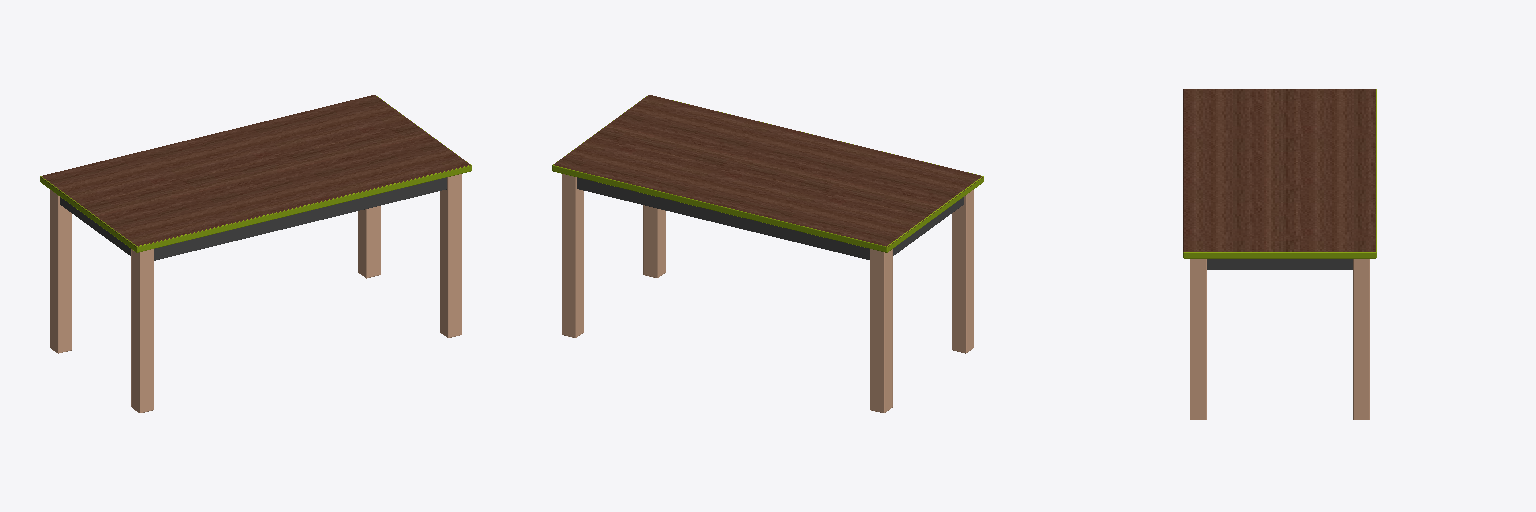
3 renders of one model, left to right at view 1: azimuth 30°, elevation 25°; view 2: azimuth 150°, elevation 25°; view 3: azimuth 270°, elevation 25°, orthographic.
Parts seen in each view (by area): view 1: ChamferBox004, ___________004, ChamferBox007, ___________001, ___________003, ___________002, ChamferBox006; view 2: ChamferBox004, ___________003, ___________002, ChamferBox008, ___________004, ___________001, ChamferBox006; view 3: ChamferBox004, ___________002, ___________001, ChamferBox005.
Part boxes in pixels (left/top/right/bottom): ChamferBox004: left=40, top=95, right=471, bottom=252; ___________004: left=131, top=249, right=153, bottom=412; ChamferBox007: left=154, top=177, right=446, bottom=260; ___________001: left=440, top=174, right=461, bottom=337; ___________003: left=50, top=190, right=71, bottom=353; ___________002: left=358, top=206, right=380, bottom=278; ChamferBox006: left=60, top=197, right=130, bottom=255; ChamferBox004: left=552, top=95, right=983, bottom=252; ___________003: left=870, top=249, right=892, bottom=412; ___________002: left=562, top=174, right=583, bottom=337; ChamferBox008: left=577, top=177, right=869, bottom=259; ___________004: left=952, top=190, right=973, bottom=353; ___________001: left=643, top=205, right=665, bottom=277; ChamferBox006: left=893, top=197, right=963, bottom=255; ChamferBox004: left=1183, top=89, right=1376, bottom=258; ___________002: left=1353, top=259, right=1369, bottom=419; ___________001: left=1190, top=259, right=1206, bottom=419; ChamferBox005: left=1207, top=259, right=1352, bottom=269.
Bounding box in the file's own units: 16 × 7.8 × 8.
Materials: 4 (1 with a texture image).